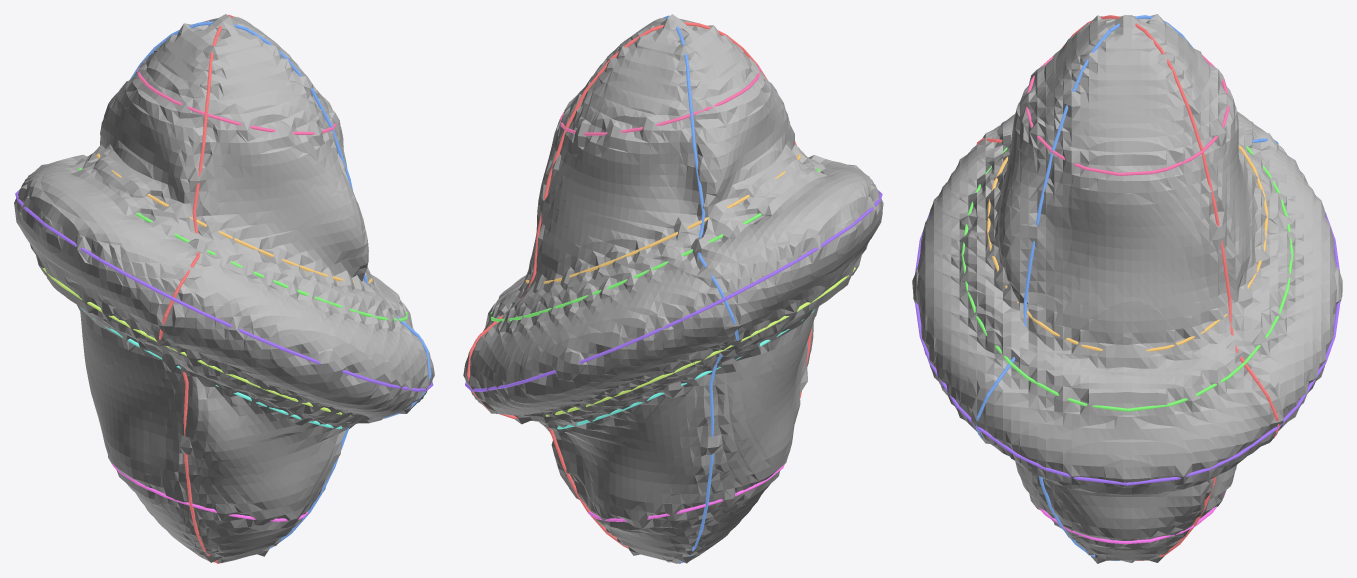
The model's file is flowrep_ellipsetorus.gltf.
The picture shows the model from 3 angles, left to right: view 1: azimuth 30°, elevation 25°; view 2: azimuth 150°, elevation 25°; view 3: azimuth 270°, elevation 25°; orthographic projection.
Size of the model in its own units: 0.4989 by 0.7206 by 0.5137.
